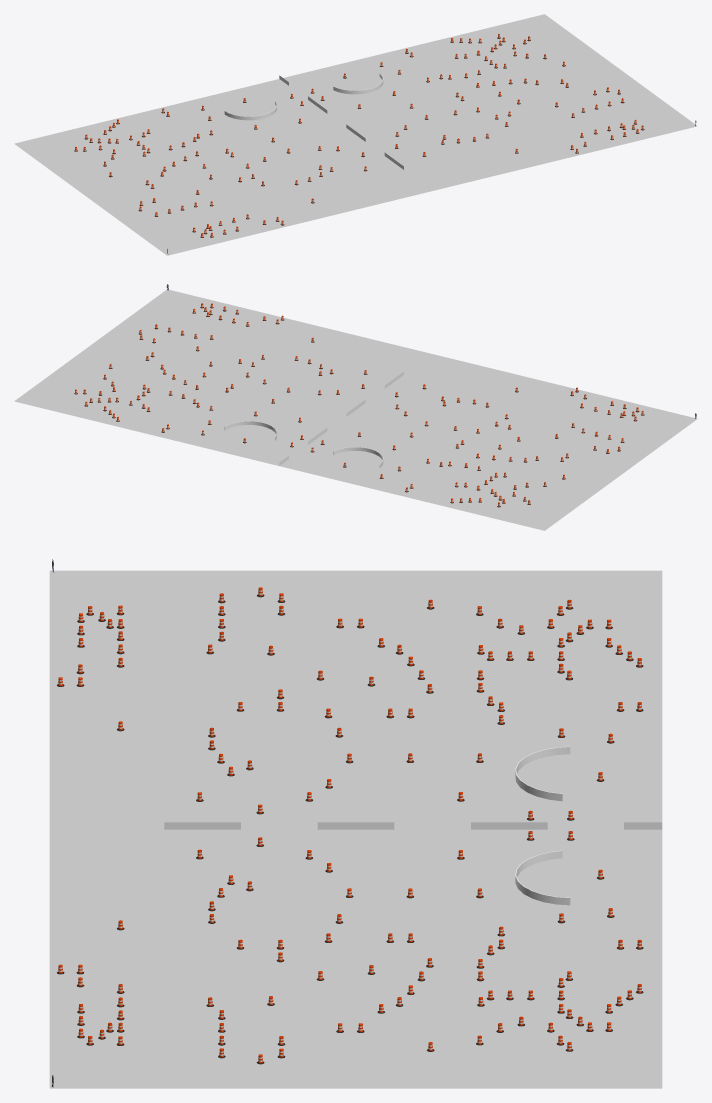
The model's file is IGVC Course 500 by 250 - 5 in.dae.
The picture shows the model from 3 angles, top to bottom: view 1: azimuth 30°, elevation 25°; view 2: azimuth 150°, elevation 25°; view 3: azimuth 270°, elevation 25°; orthographic projection. The views are drawn at different scales.
Parts seen in each view (by area): view 1: image_0, image_1; view 2: image_0, image_1; view 3: image_1, image_0, SketchUp (×2).
Boxes of the visible parts, left/top/right/bottom form: image_0: left=14, top=79, right=431, bottom=255; image_1: left=283, top=14, right=697, bottom=190; image_0: left=279, top=354, right=697, bottom=530; image_1: left=14, top=289, right=431, bottom=465; image_1: left=49, top=829, right=662, bottom=1088; image_0: left=49, top=570, right=662, bottom=829; SketchUp (×2): left=515, top=746, right=570, bottom=905.
Bounding box in the file's own units: 152 × 76.2 × 1.69.
